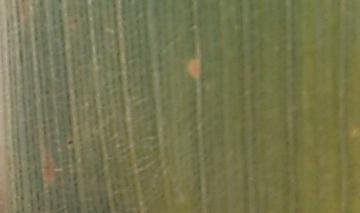tarspot: (71, 17, 80, 26), (66, 138, 74, 147), (18, 194, 25, 202), (36, 205, 43, 213), (43, 89, 50, 96), (250, 136, 257, 143), (115, 50, 121, 58), (111, 2, 117, 9), (56, 1, 62, 5)
